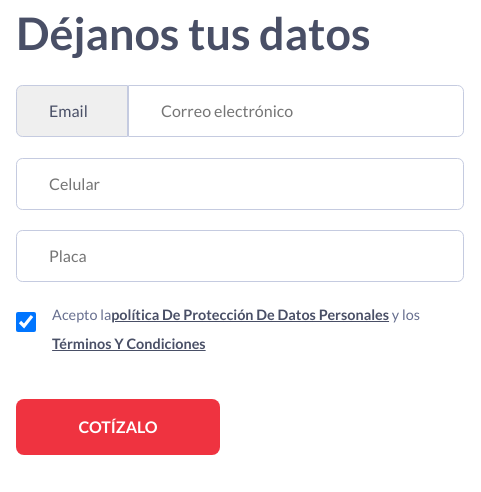
it: invalid license plate
The width and height of the screenshot is (481, 492).
Type "john@doe.com" into the field with placeholder "Correo electrónico" at (296, 111), box [128,85,464,137]
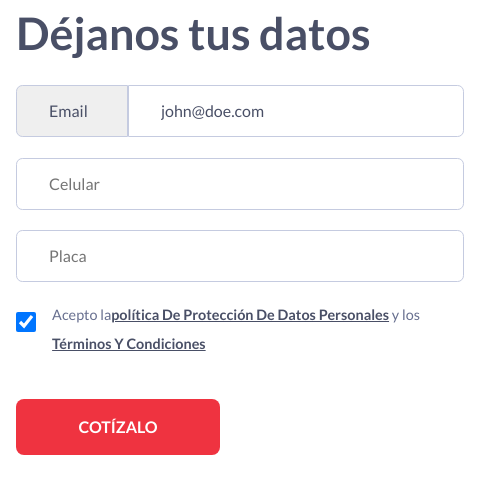
Type "999222333" into the field with placeholder "Celular" at (240, 184), box [16,158,464,210]
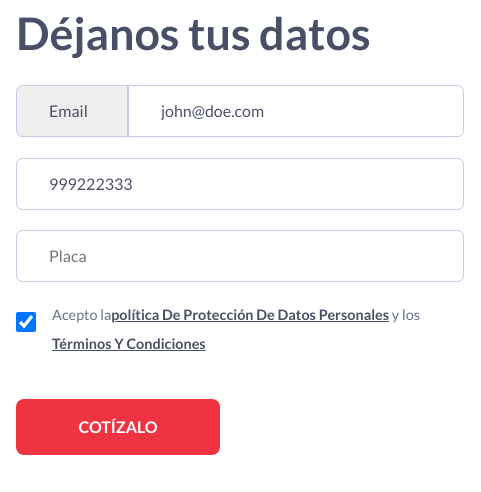
Type "ABC-CASX123" into the field with placeholder "Placa" at (240, 256), box [16,230,464,282]
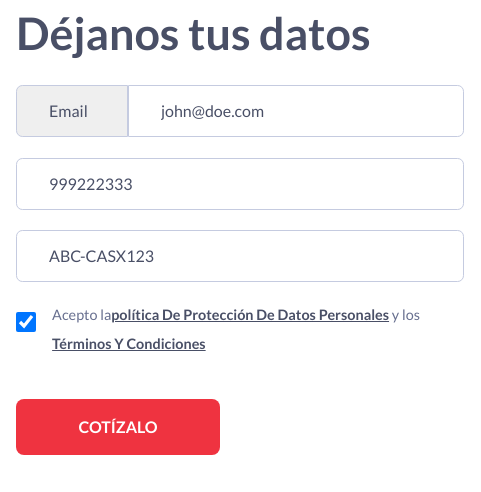
Click the button "Cotízalo" at (118, 427), box [16,399,220,456]
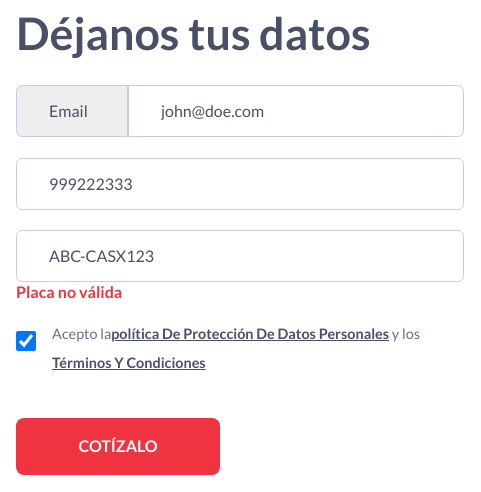
Expected: the text "Placa no válida" is shown, [16,282,122,301]
